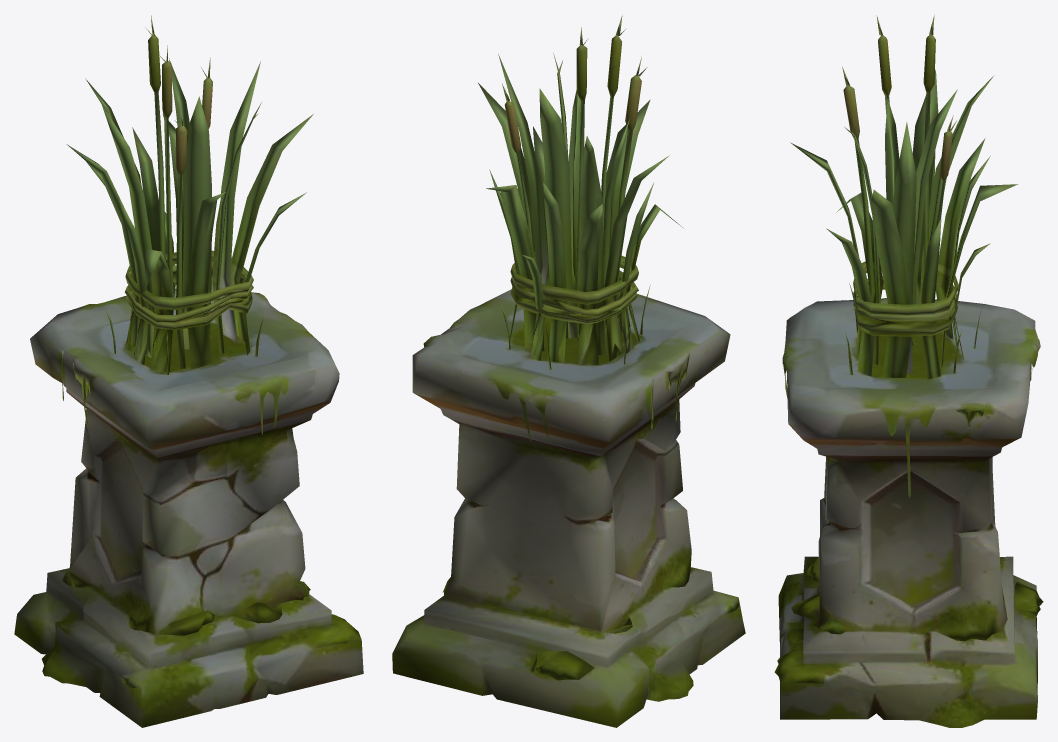
File: delve_rite_shrine_reed.glb
3 renders of one model, left to right at view 1: azimuth 30°, elevation 25°; view 2: azimuth 150°, elevation 25°; view 3: azimuth 270°, elevation 25°, orthographic.
Parts seen in each view (by area): view 1: tripo_node_676588ba-7a58-4761-a657-96ff50ded347; view 2: tripo_node_676588ba-7a58-4761-a657-96ff50ded347; view 3: tripo_node_676588ba-7a58-4761-a657-96ff50ded347.
Boxes of the visible parts, <box> form: tripo_node_676588ba-7a58-4761-a657-96ff50ded347: <box>14,15,363,727</box>; tripo_node_676588ba-7a58-4761-a657-96ff50ded347: <box>392,15,745,727</box>; tripo_node_676588ba-7a58-4761-a657-96ff50ded347: <box>774,14,1043,727</box>.
Size of the model in its own units: 0.9342 by 2.2 by 0.8395.
1 material, 1 textured.
